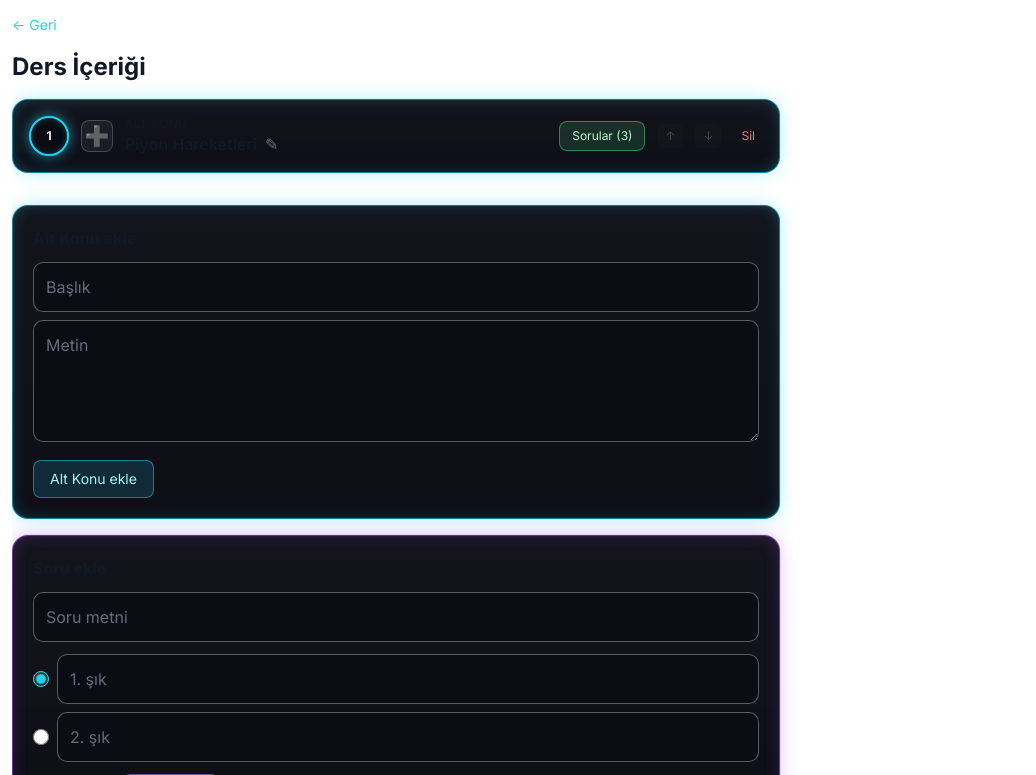
it: Admin ders sayfası — "Ödevini Yap": sadece Soru Sayısı (Başarı Puanı YOK) › soru sayısı boşken Kaydet basınca kaydedilmez, uyarı gösterilir
Click the button "Sorular (3)" at (602, 136), box [559, 121, 645, 151]
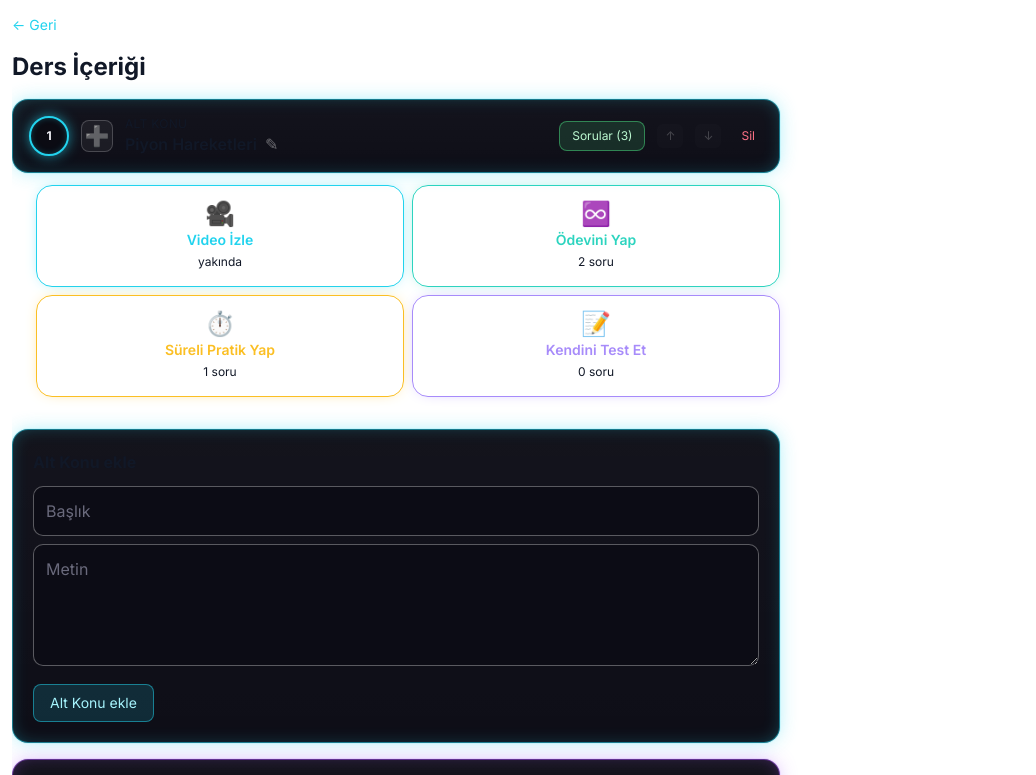
Expected: the text "Ödevini Yap" is shown
Click the text "Ödevini Yap" at (596, 240), box [556, 230, 636, 250]
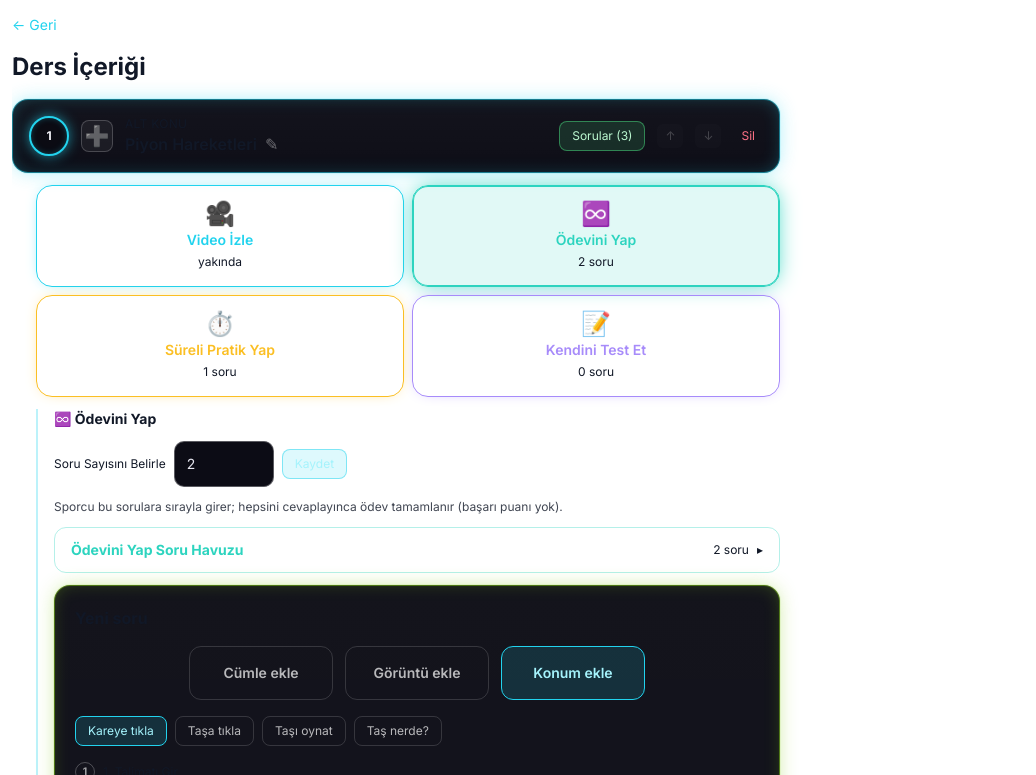
Expected: the text "Soru Sayısını Belirle" is shown, [54, 456, 166, 472]
Clear the number field labelled "Soru Sayısını Belirle" at (224, 464), box [174, 441, 274, 487]
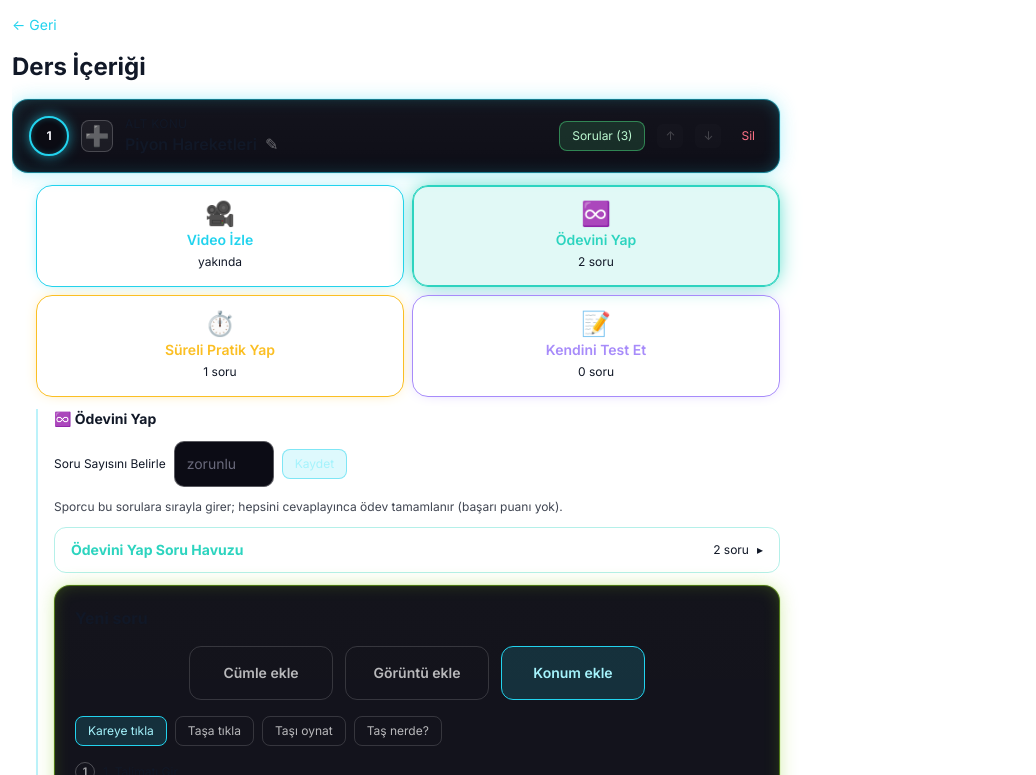
Click the button "Kaydet" at (314, 464), box [282, 449, 347, 479]
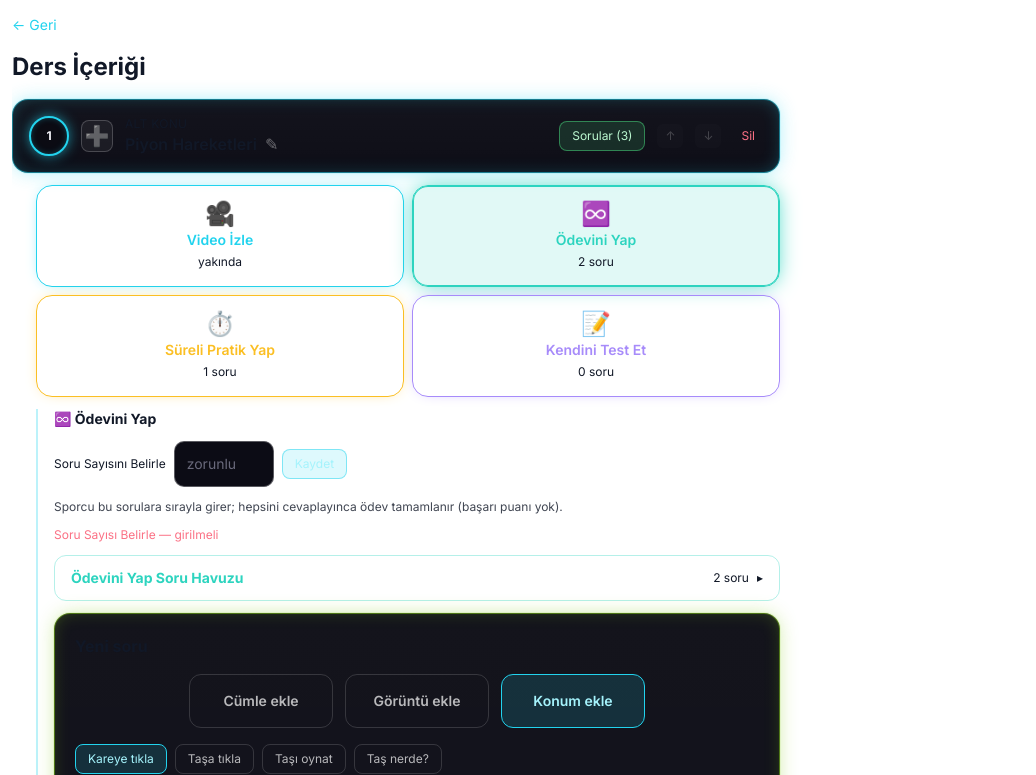
Expected: the text "Soru Sayısı Belirle — girilmeli" is shown, [54, 527, 218, 542]
